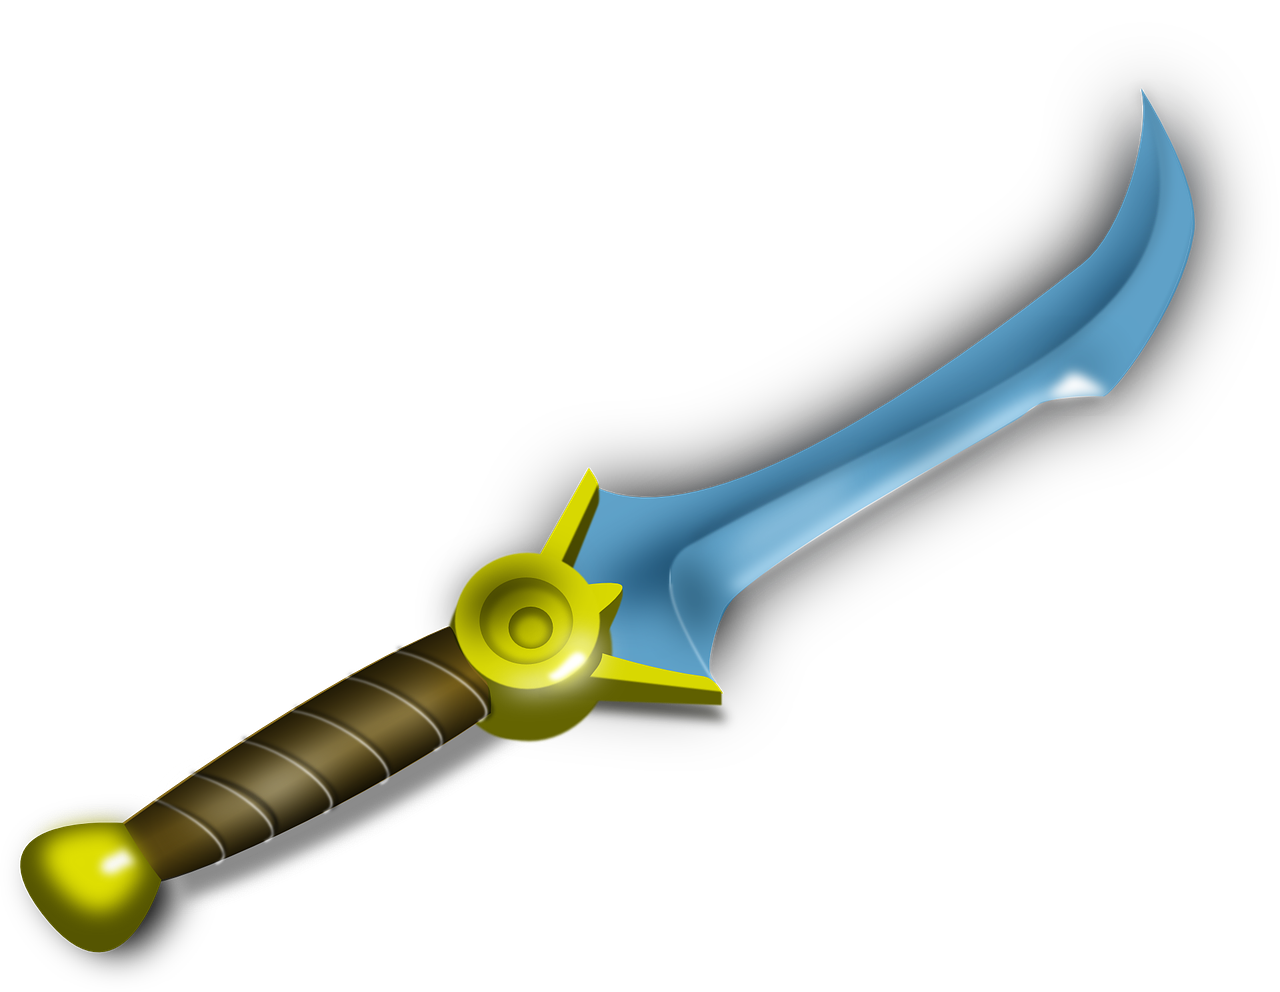knife: (10, 72, 1207, 959)
